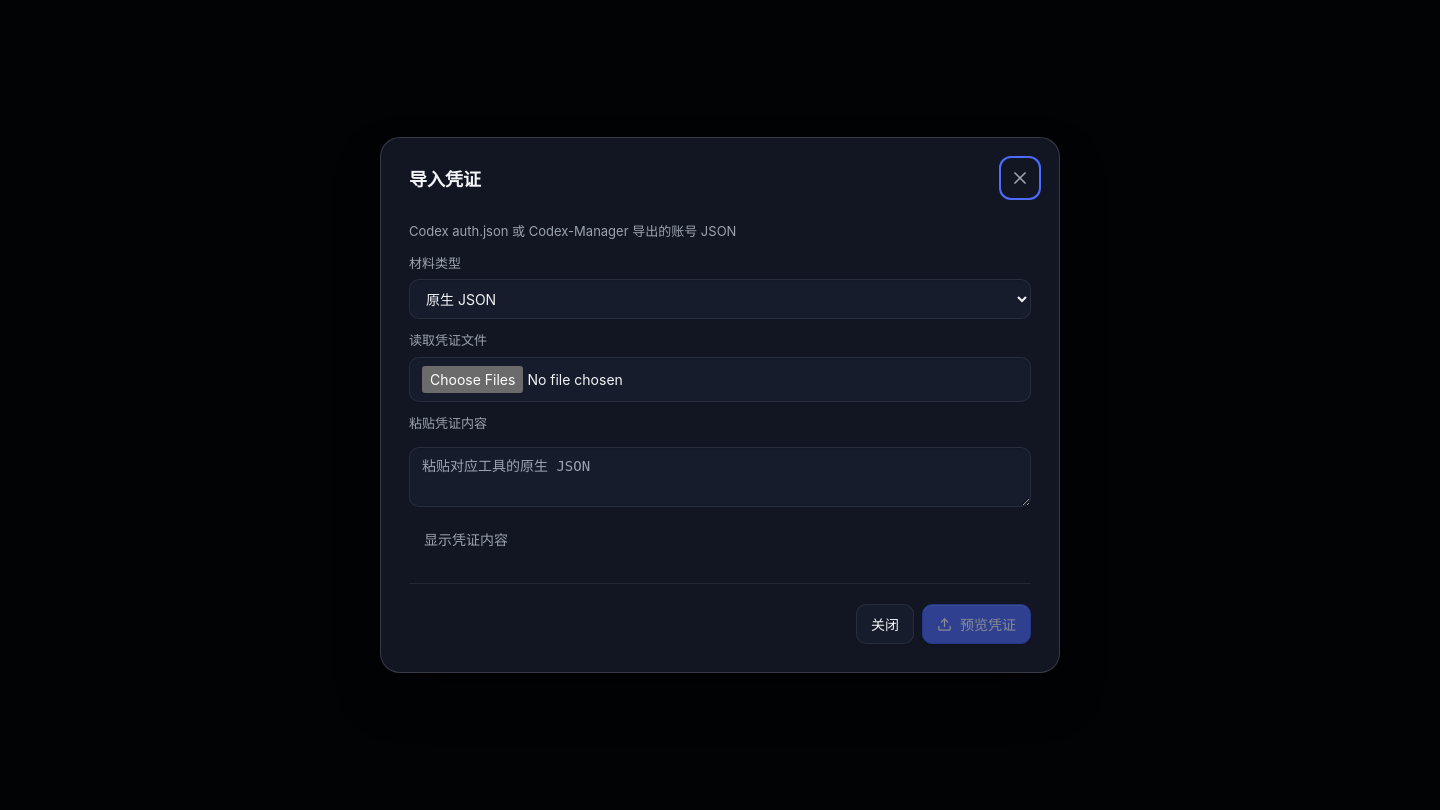
Test: locks a second-channel paste preview to the server target and wraps the selected token type explicitly
Select "Access token" in the dropdown named "凭证材料类型": (720, 299) [409,279,1031,319]
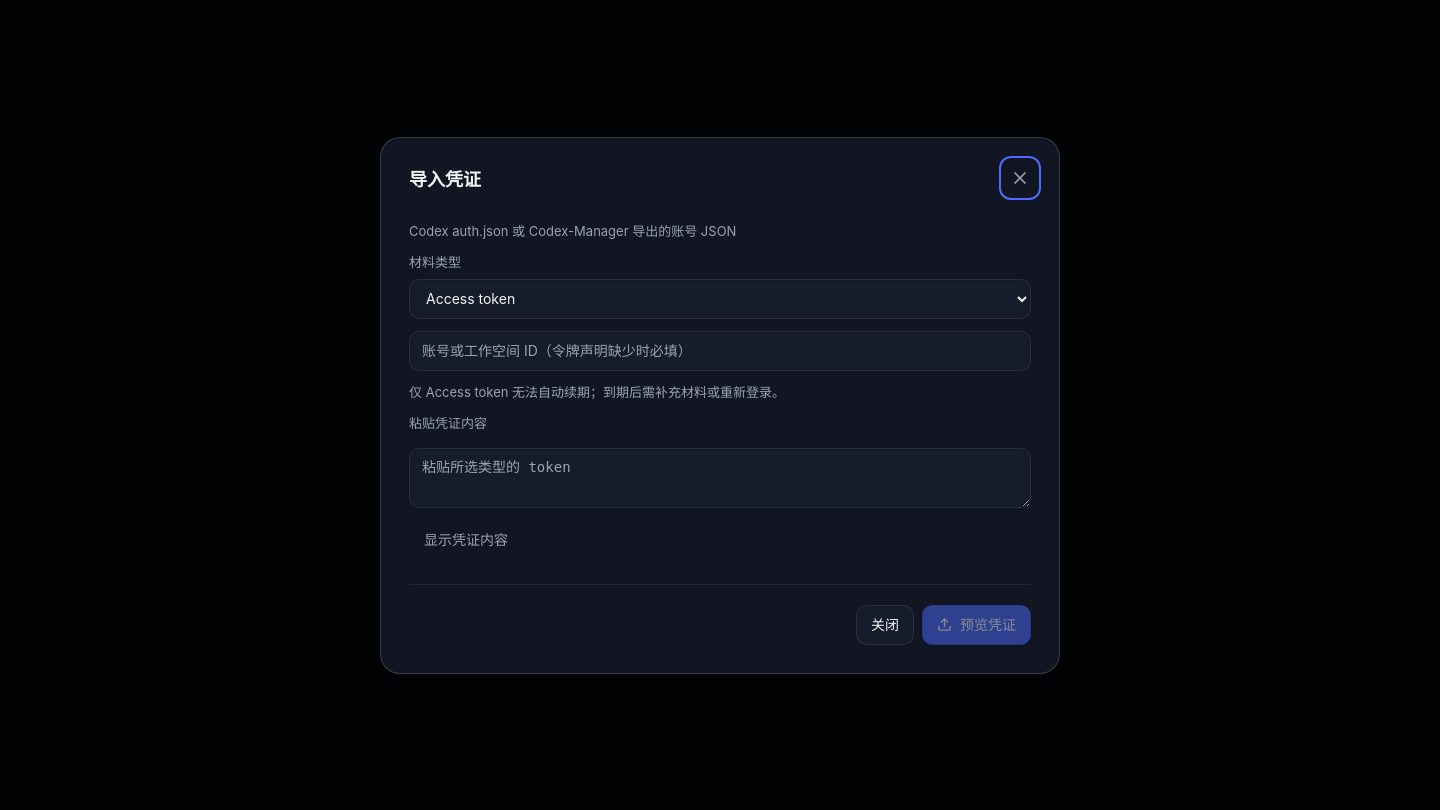
In the field labelled "账号或工作空间 ID": (720, 350) [409,330,1031,370], type "synthetic-workspace"
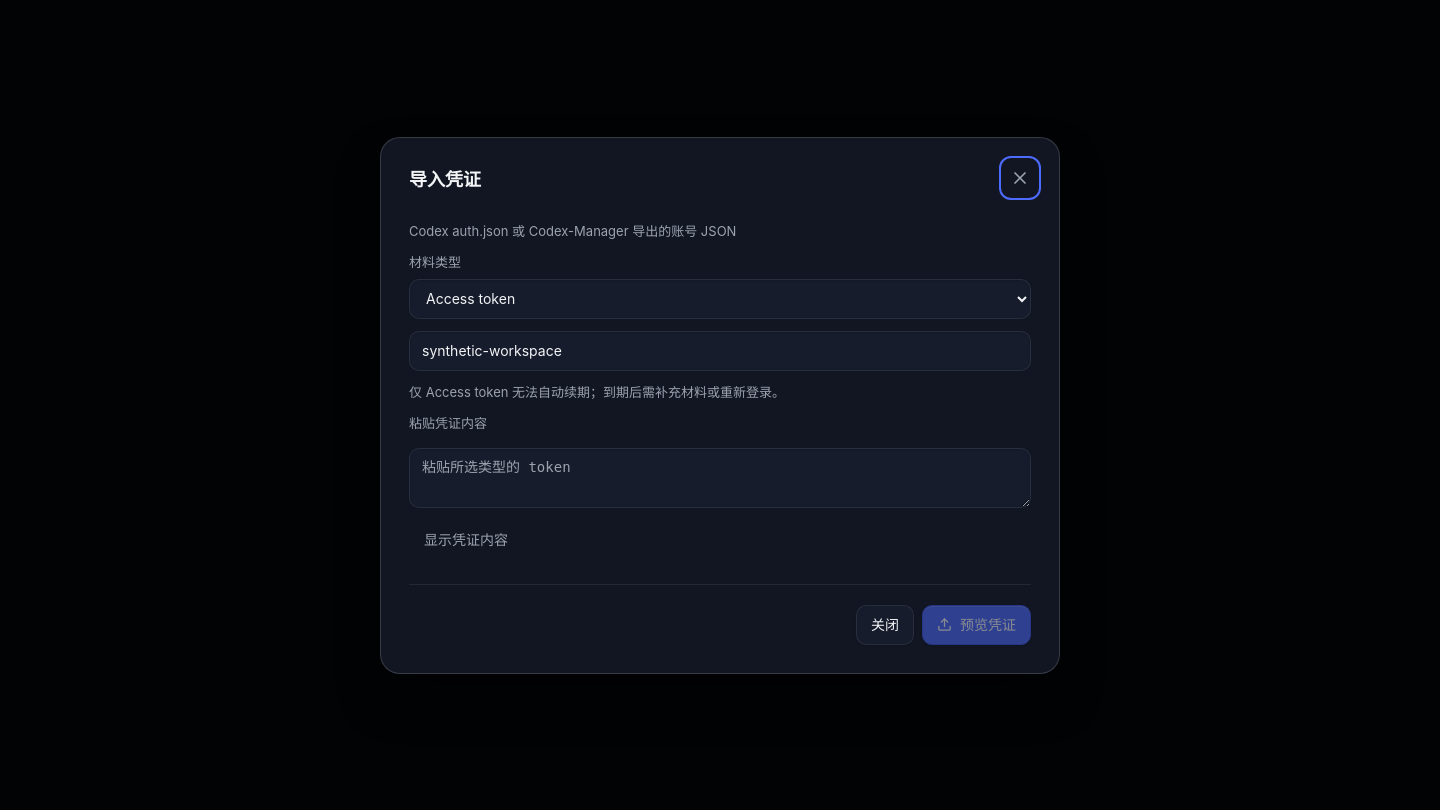
In the text box labelled "粘贴凭证内容": (720, 478) [409,448,1031,508], type "synthetic-access-only"
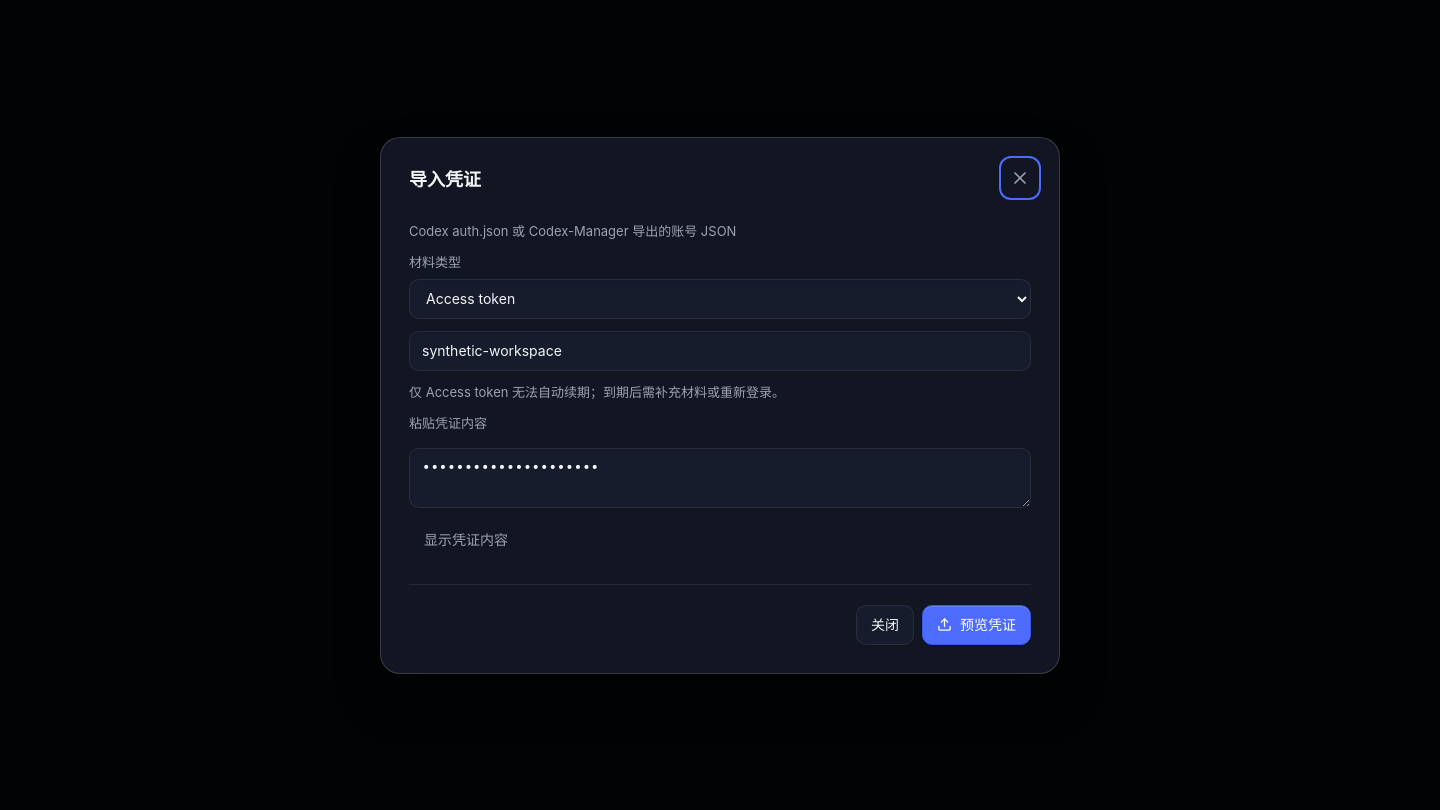
Click the button "预览凭证": click(976, 624) [922,604,1031,644]
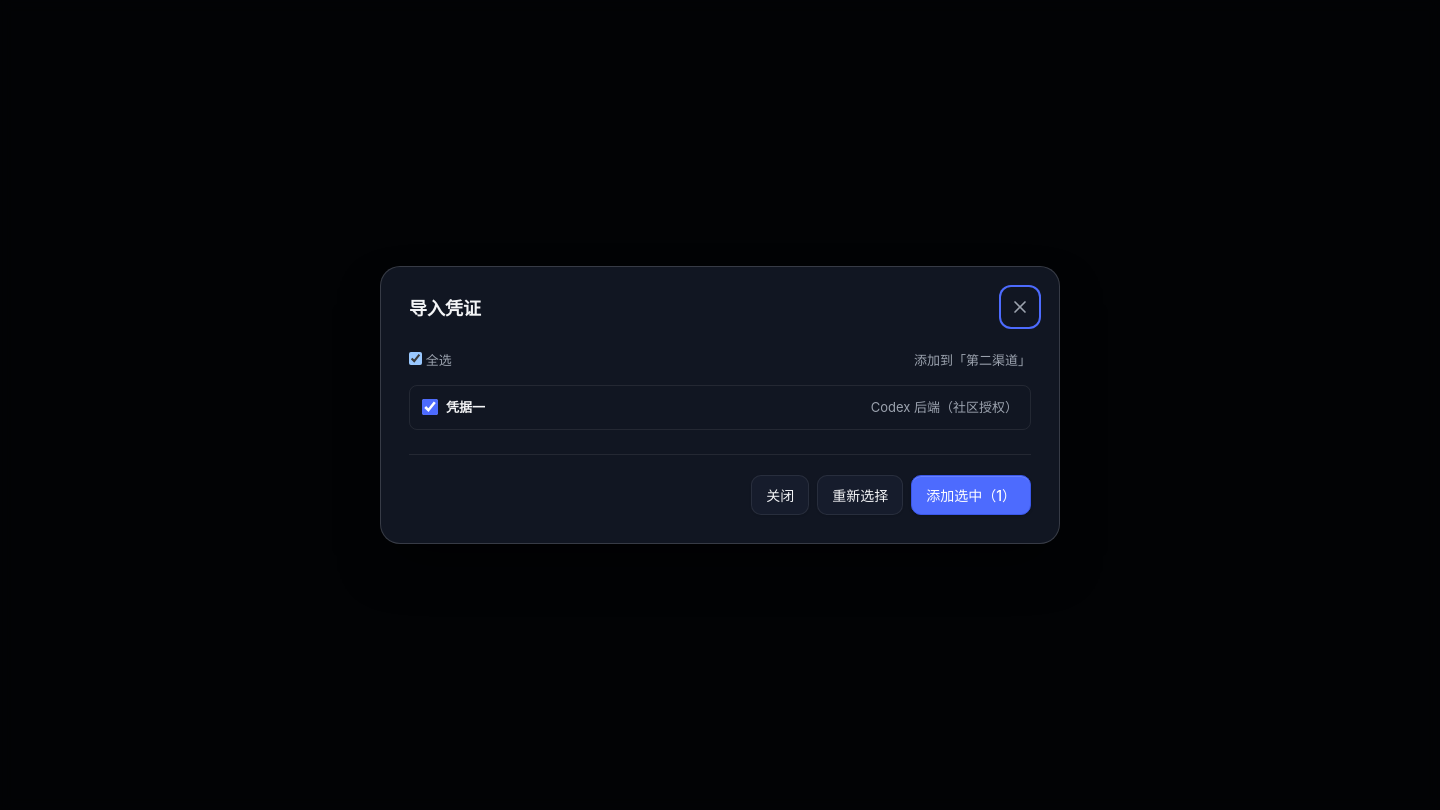
Expected: the text "添加到「第二渠道」" is shown, [914,351,1031,370]
Click the button "添加选中（1）": click(971, 495) [911,475,1031,515]
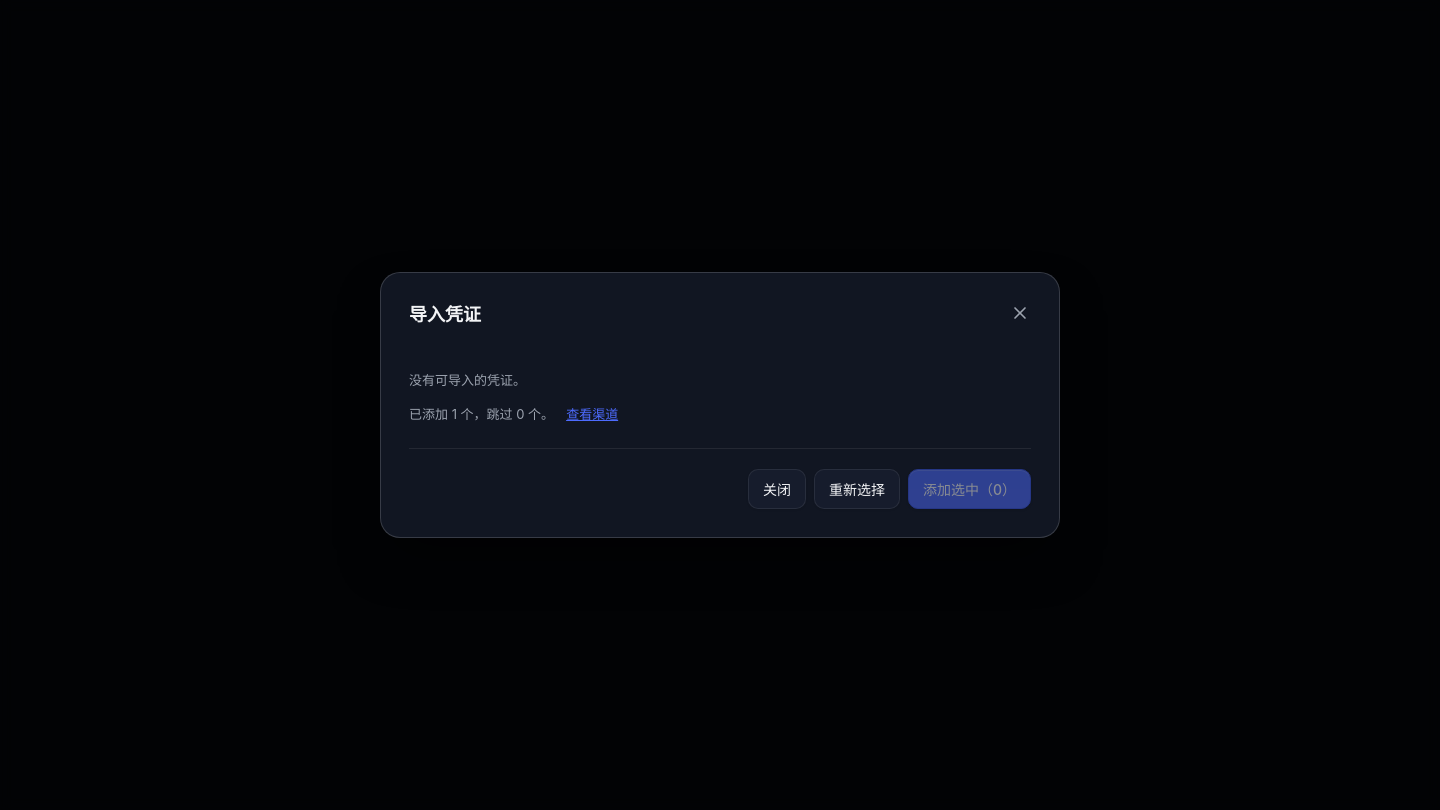
Expected: the list item "已添加 1 个，跳过 0 个。" is shown, [409,406,554,422]
